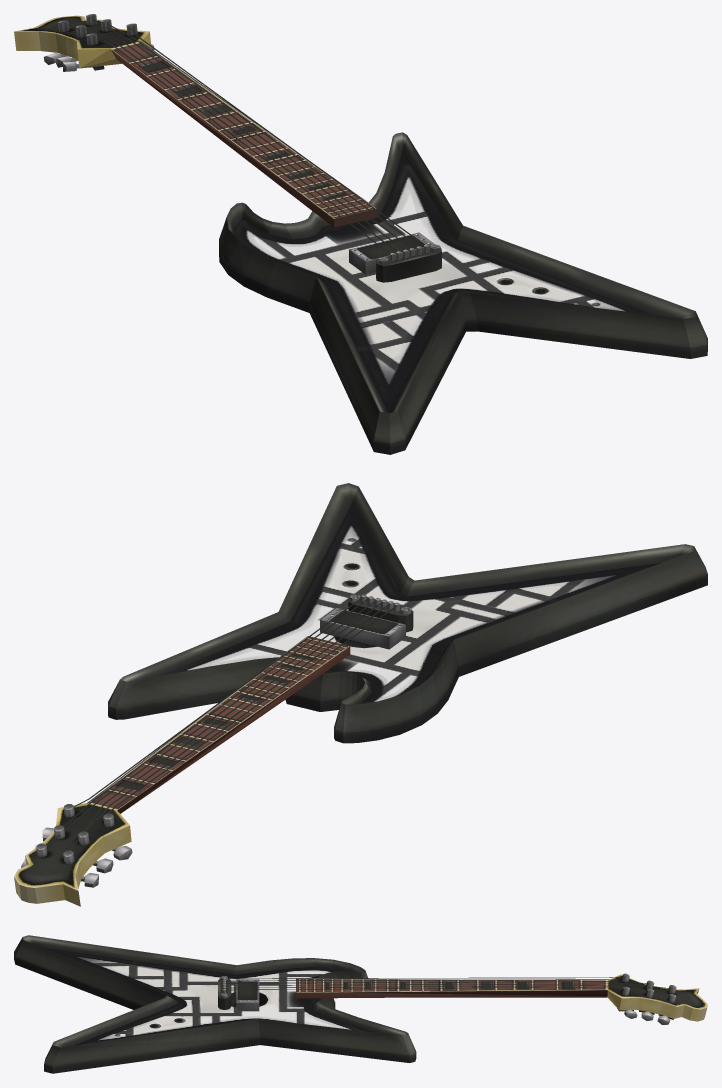
The model's file is Weapon_5pb4.obj.
3 renders of one model, top to bottom at view 1: azimuth 30°, elevation 25°; view 2: azimuth 150°, elevation 25°; view 3: azimuth 270°, elevation 25°, orthographic. The views are drawn at different scales.
Visible parts, largest first — view 1: Weapon_5pb_4; view 2: Weapon_5pb_4; view 3: Weapon_5pb_4.
Part boxes in pixels (x1,y1,x2,y2): Weapon_5pb_4: (14, 14, 707, 454); Weapon_5pb_4: (14, 483, 707, 906); Weapon_5pb_4: (14, 935, 707, 1073).
Bounding box in the file's own units: 15.97 × 2.26 × 39.87.
1 material, 1 textured.
